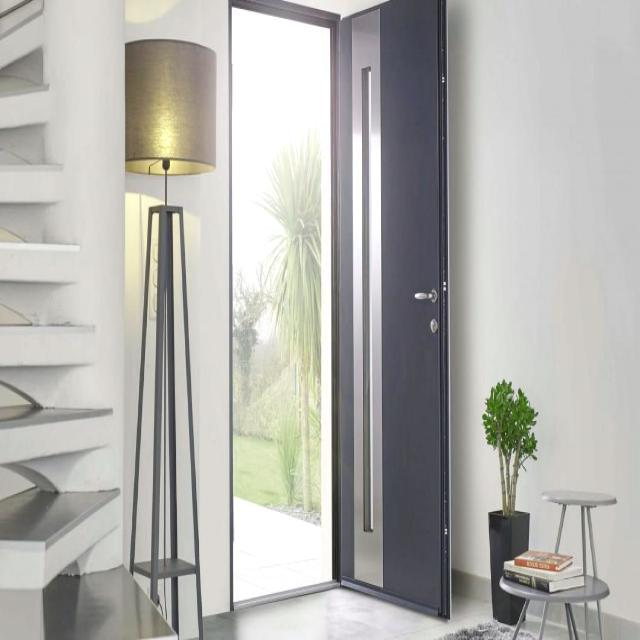door: (218, 1, 473, 633)
